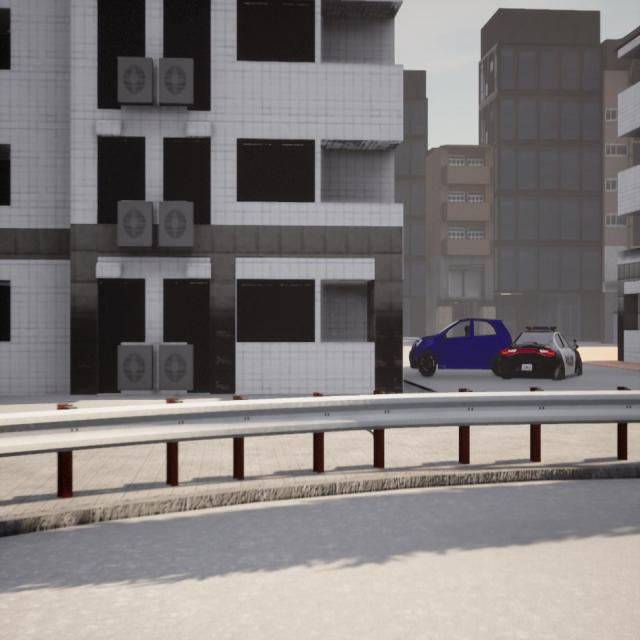Vehicle: (408, 317, 512, 377), (496, 326, 583, 380)
